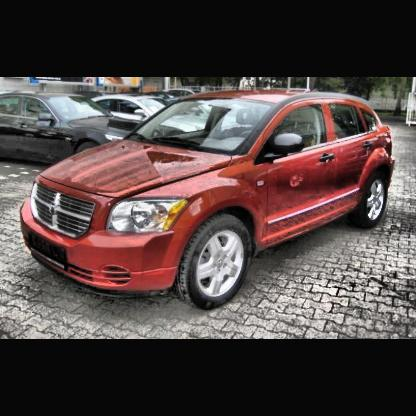Dodge Caliber Wagon 2007: (22, 90, 395, 310)
